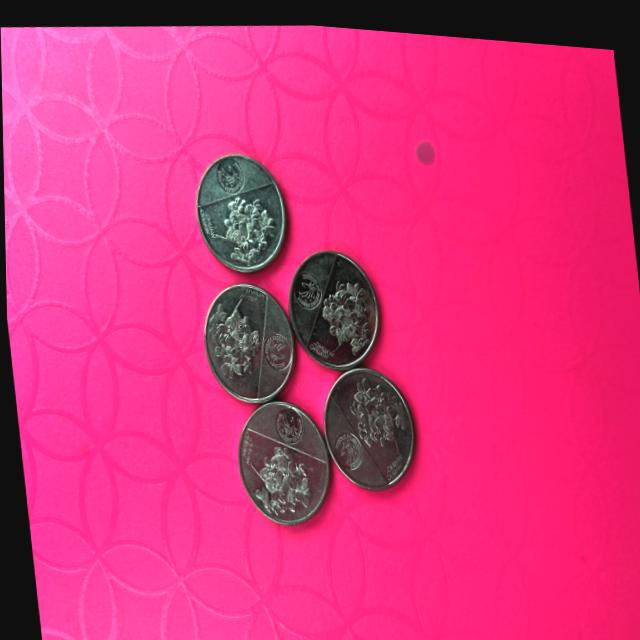1_New_Back: (318, 265, 374, 354), (248, 442, 311, 520), (219, 189, 281, 267), (206, 299, 259, 378), (352, 377, 407, 450)
